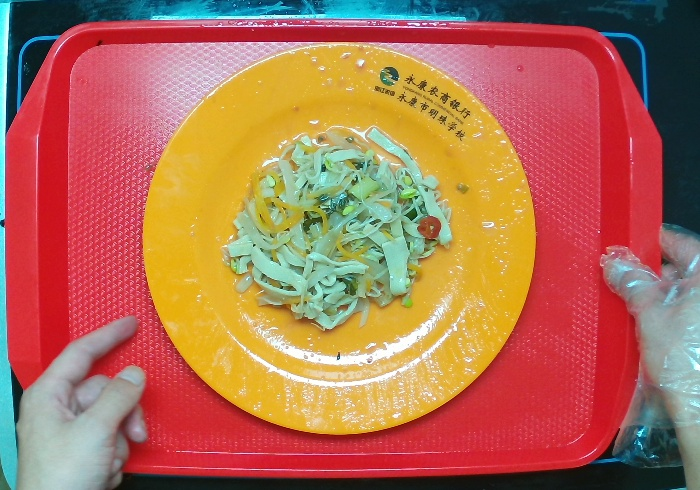YKMZ-Ju_Se_Mian_Pan: (128, 35, 546, 446)
